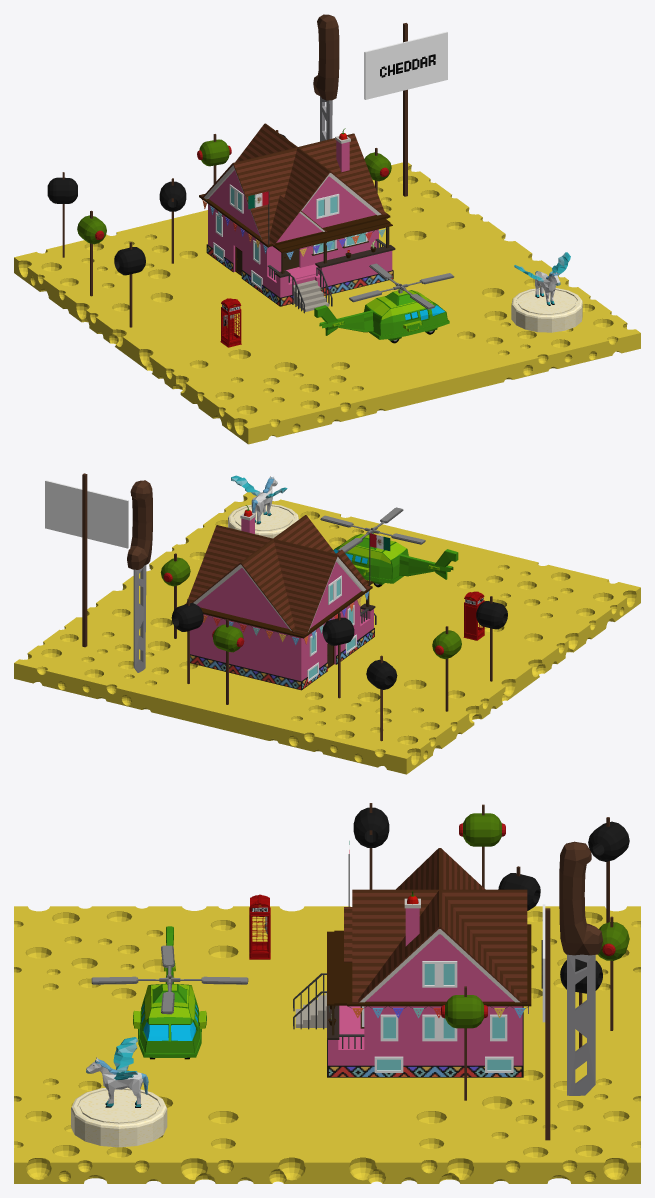
The picture shows the model from 3 angles, top to bottom: view 1: azimuth 30°, elevation 25°; view 2: azimuth 150°, elevation 25°; view 3: azimuth 270°, elevation 25°; orthographic projection. The views are drawn at different scales.
Parts seen in each view (by area): view 1: Cube.022, Cube.1005, VEHICLES_HELICOPTER, Cube.023, Cylinder.016, Cube.024, Sphere.017, OBJRANDOM_PHONEBOOTH, ANIMAL_PEGASO, Sphere.016, Sphere.020, Sphere.018 (+2 smaller); view 2: Cube.022, Cube.1005, Cube.023, VEHICLES_HELICOPTER, Cube.024, Cylinder.016, Sphere.017, Sphere.020, ANIMAL_PEGASO, Sphere.021, Sphere.016, Sphere.018 (+3 smaller); view 3: Cube.022, Cube.1005, Cube.024, VEHICLES_HELICOPTER, Cylinder.016, ANIMAL_PEGASO, Cube.023, Sphere.019, Sphere.016, Sphere.018, Sphere.017, OBJRANDOM_PHONEBOOTH (+3 smaller).
Part boxes in pixels (x1=…): Cube.022: x1=14, y1=162, x2=640, y2=444; Cube.1005: x1=199, y1=123, x2=395, y2=313; VEHICLES_HELICOPTER: x1=314, y1=263, x2=454, y2=343; Cube.023: x1=364, y1=23, x2=447, y2=196; Cylinder.016: x1=511, y1=288, x2=582, y2=332; Cube.024: x1=313, y1=14, x2=339, y2=141; Sphere.017: x1=114, y1=242, x2=145, y2=327; OBJRANDOM_PHONEBOOTH: x1=220, y1=298, x2=241, y2=347; ANIMAL_PEGASO: x1=514, y1=252, x2=570, y2=305; Sphere.016: x1=47, y1=172, x2=77, y2=257; Sphere.020: x1=159, y1=178, x2=186, y2=263; Sphere.018: x1=77, y1=210, x2=106, y2=296; Cube.022: x1=14, y1=492, x2=640, y2=774; Cube.1005: x1=184, y1=505, x2=390, y2=690; Cube.023: x1=45, y1=473, x2=128, y2=647; VEHICLES_HELICOPTER: x1=320, y1=507, x2=458, y2=587; Cube.024: x1=127, y1=480, x2=152, y2=672; Cylinder.016: x1=228, y1=504, x2=298, y2=538; Sphere.017: x1=476, y1=596, x2=507, y2=681; Sphere.020: x1=322, y1=612, x2=354, y2=698; ANIMAL_PEGASO: x1=231, y1=475, x2=287, y2=524; Sphere.021: x1=171, y1=598, x2=203, y2=683; Sphere.016: x1=366, y1=655, x2=397, y2=741; Sphere.018: x1=432, y1=626, x2=461, y2=711; Cube.022: x1=14, y1=906, x2=640, y2=1183; Cube.1005: x1=293, y1=841, x2=531, y2=1077; Cube.024: x1=559, y1=841, x2=602, y2=1095; VEHICLES_HELICOPTER: x1=91, y1=926, x2=248, y2=1059; Cylinder.016: x1=71, y1=1087, x2=167, y2=1147; ANIMAL_PEGASO: x1=86, y1=1037, x2=148, y2=1107; Cube.023: x1=541, y1=904, x2=550, y2=1140; Sphere.019: x1=441, y1=986, x2=487, y2=1100; Sphere.016: x1=588, y1=817, x2=629, y2=922; Sphere.018: x1=459, y1=804, x2=505, y2=888; Sphere.017: x1=353, y1=803, x2=389, y2=889; OBJRANDOM_PHONEBOOTH: x1=249, y1=894, x2=270, y2=959.
Size of the model in its own units: 3917 by 2108 by 4000.
79 materials, 5 textured.
